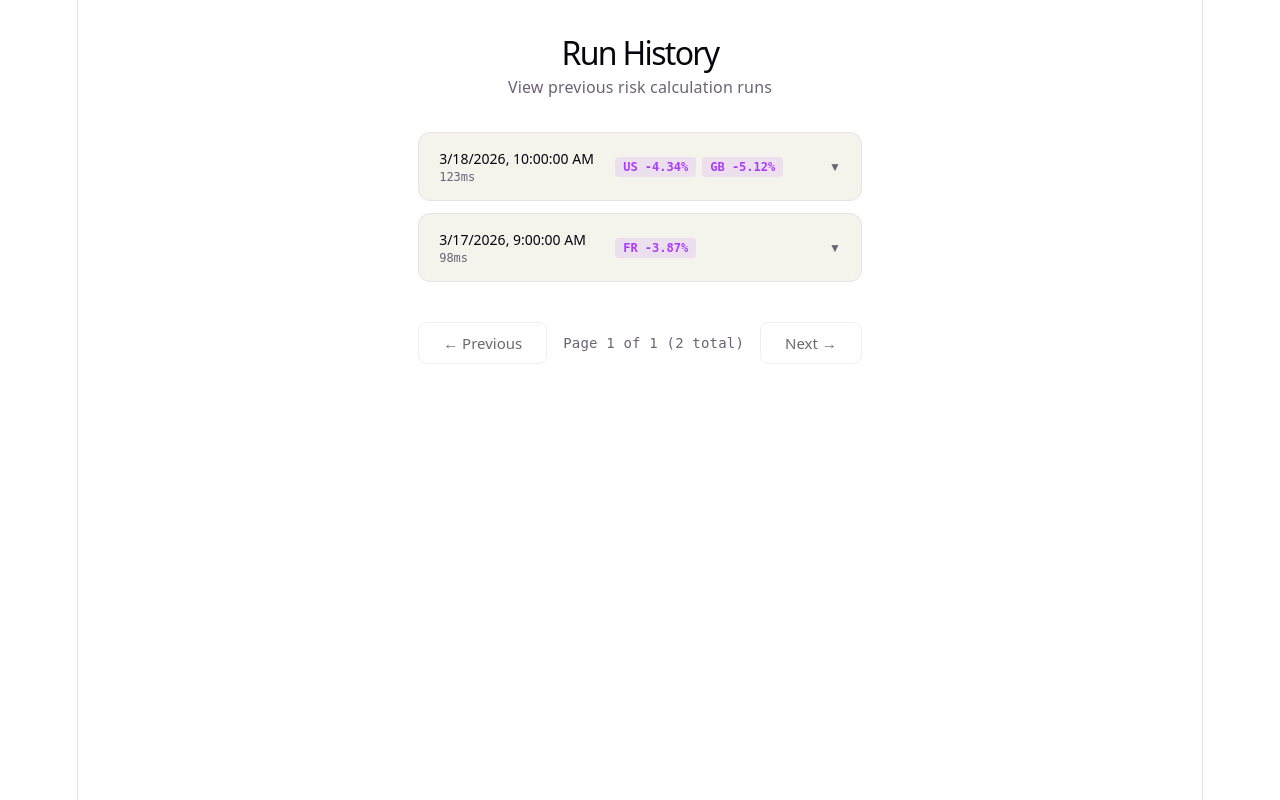
RunHistoryPage › collapses a run card when clicked again
Expected: the text "123ms" is shown, 439,170 -> 475,184
Click the button "3/18/2026, 10:00:00 AM 123ms US -4.34% GB -5.12% ▼": (640, 167) 419,133 -> 861,200
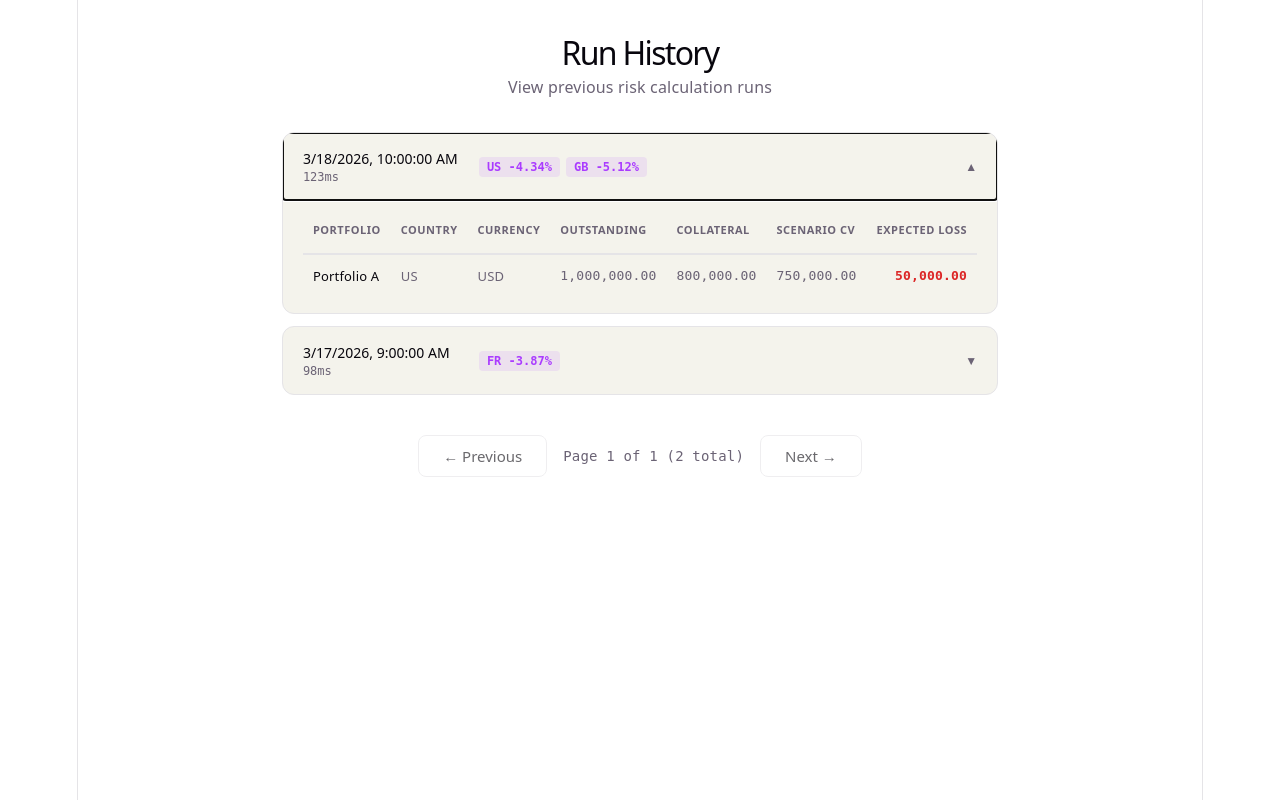
Expected: the text "Portfolio A" is shown, 303,254 -> 391,297
Click again to collapse
Click the button "3/18/2026, 10:00:00 AM 123ms US -4.34% GB -5.12% ▲": (640, 167) 283,133 -> 997,200
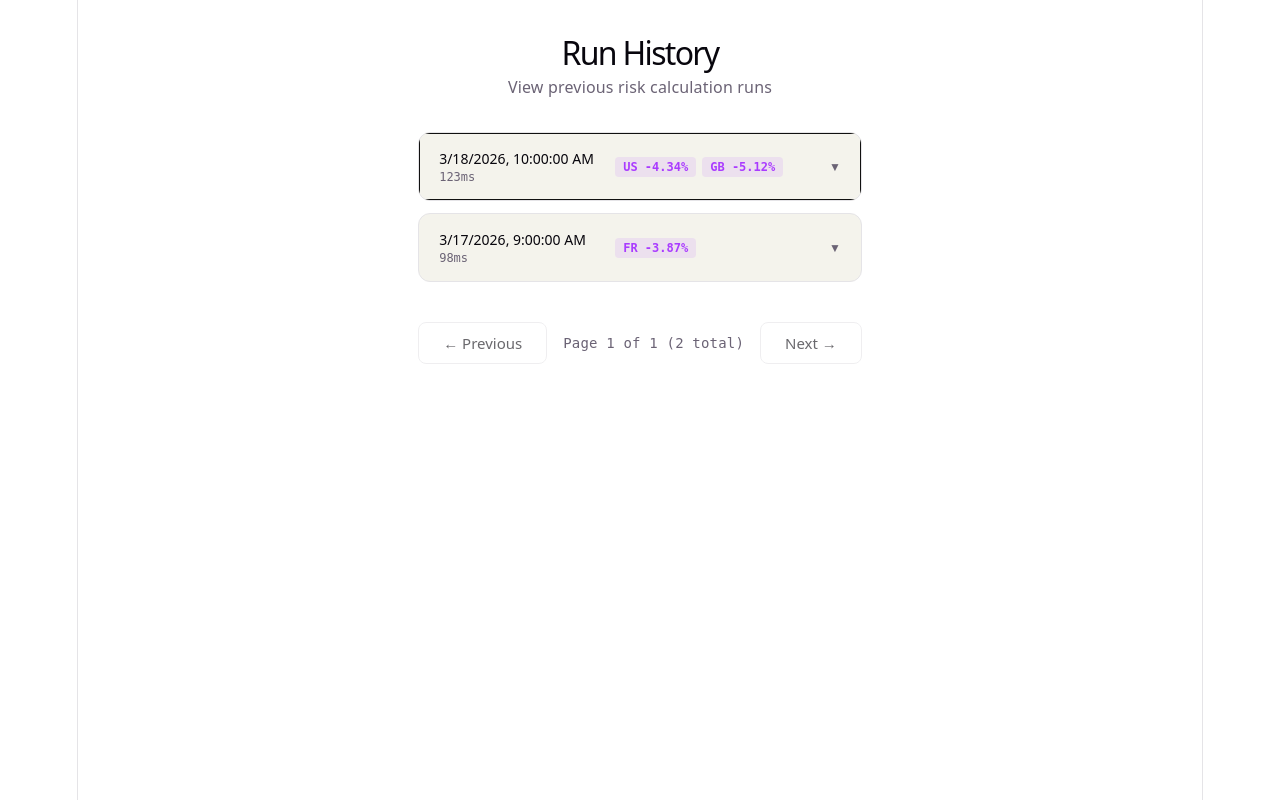
Expected: the text "Portfolio A" is gone
